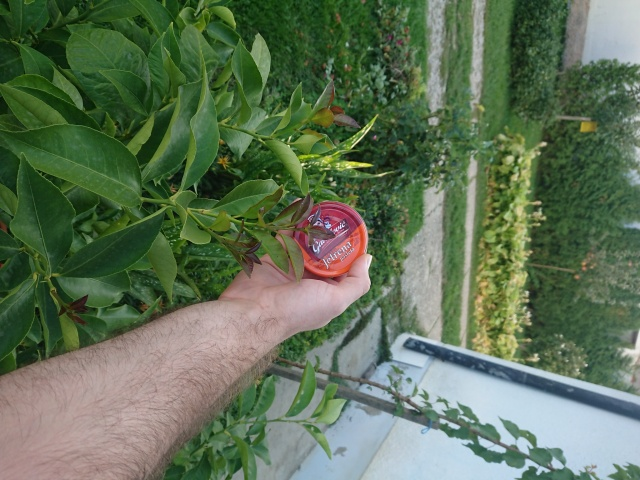Gavrilovic Pork Liver Pate 100g: (290, 200, 370, 279)
